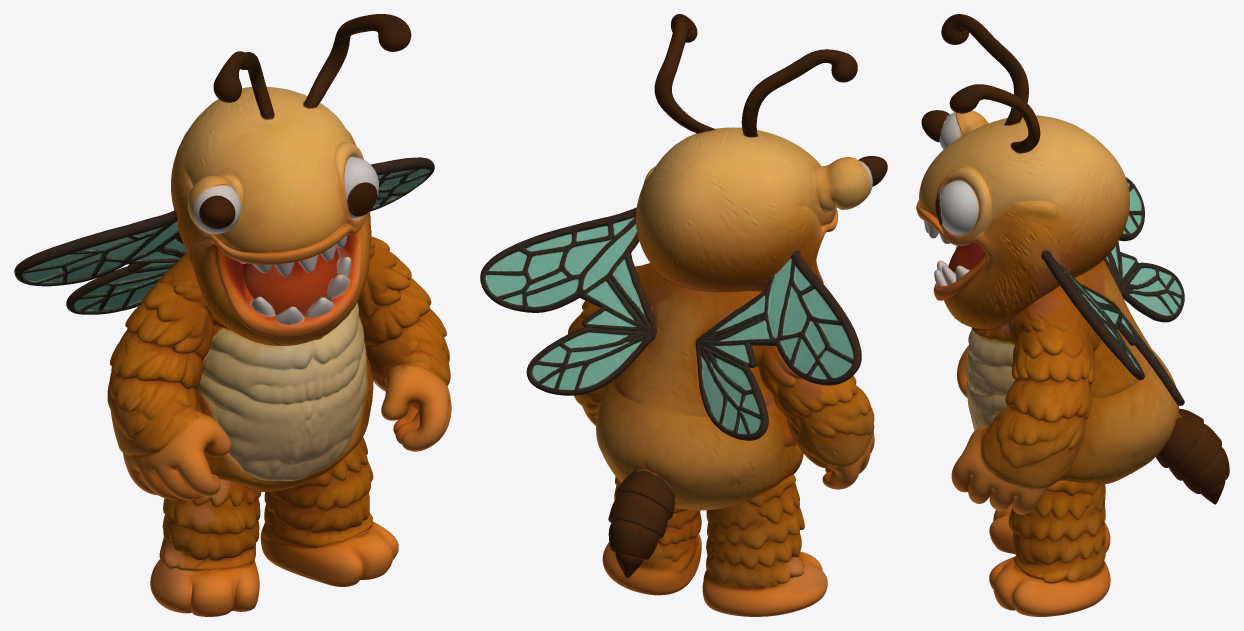
Rendered from bee2-comp.glb.
3 views of the same model, side by side, from view 1: azimuth 30°, elevation 25°; view 2: azimuth 150°, elevation 25°; view 3: azimuth 270°, elevation 25° (orthographic). The views are drawn at different scales.
Visible parts, largest first — view 1: texture_pbr_v128; view 2: texture_pbr_v128; view 3: texture_pbr_v128.
Part boxes in pixels (left/top/right/bottom): texture_pbr_v128: left=14, top=14, right=451, bottom=616; texture_pbr_v128: left=480, top=14, right=887, bottom=616; texture_pbr_v128: left=916, top=14, right=1229, bottom=616.
Size of the model in its own units: 0.8101 by 1.07 by 0.5848.
Materials: 1 (1 with a texture image).
